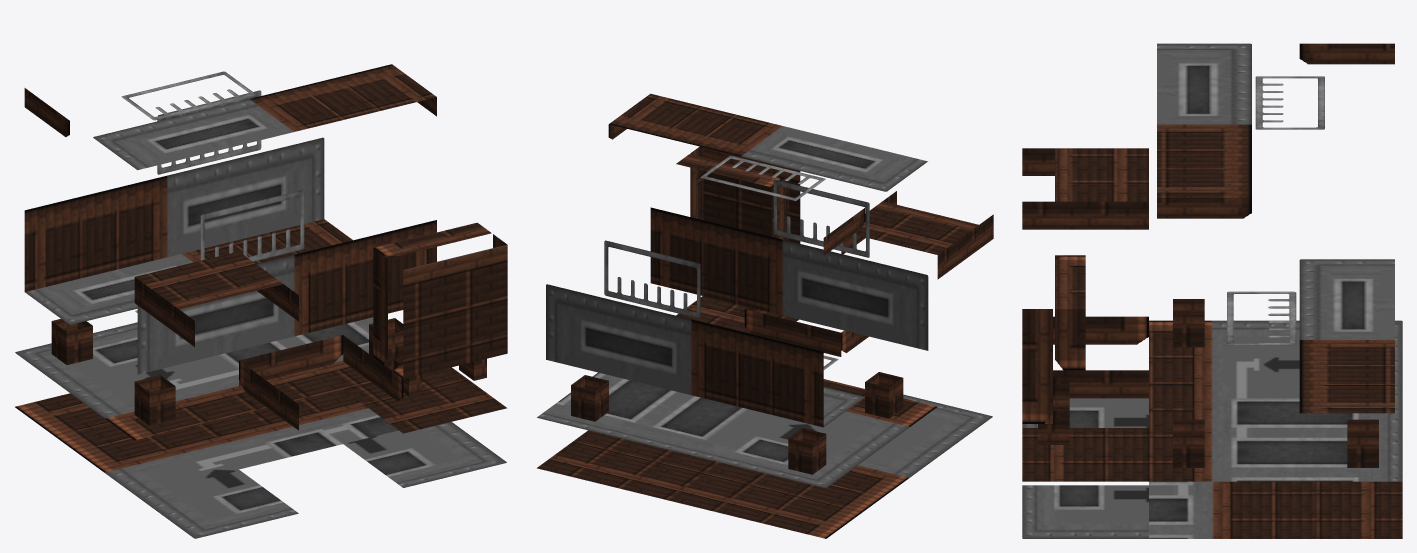
Rendered from composter.obj.
The picture shows the model from 3 angles, left to right: view 1: azimuth 30°, elevation 25°; view 2: azimuth 150°, elevation 25°; view 3: azimuth 270°, elevation 25°; orthographic projection. The views are drawn at different scales.
Parts seen in each view (by area): view 1: cube; view 2: cube; view 3: cube.
Part boxes in pixels (x1,y1,x2,y2): cube: (15, 64, 507, 538); cube: (537, 93, 993, 538); cube: (1022, 43, 1402, 538).
Bounding box in the file's own units: 3 × 3.75 × 3.
